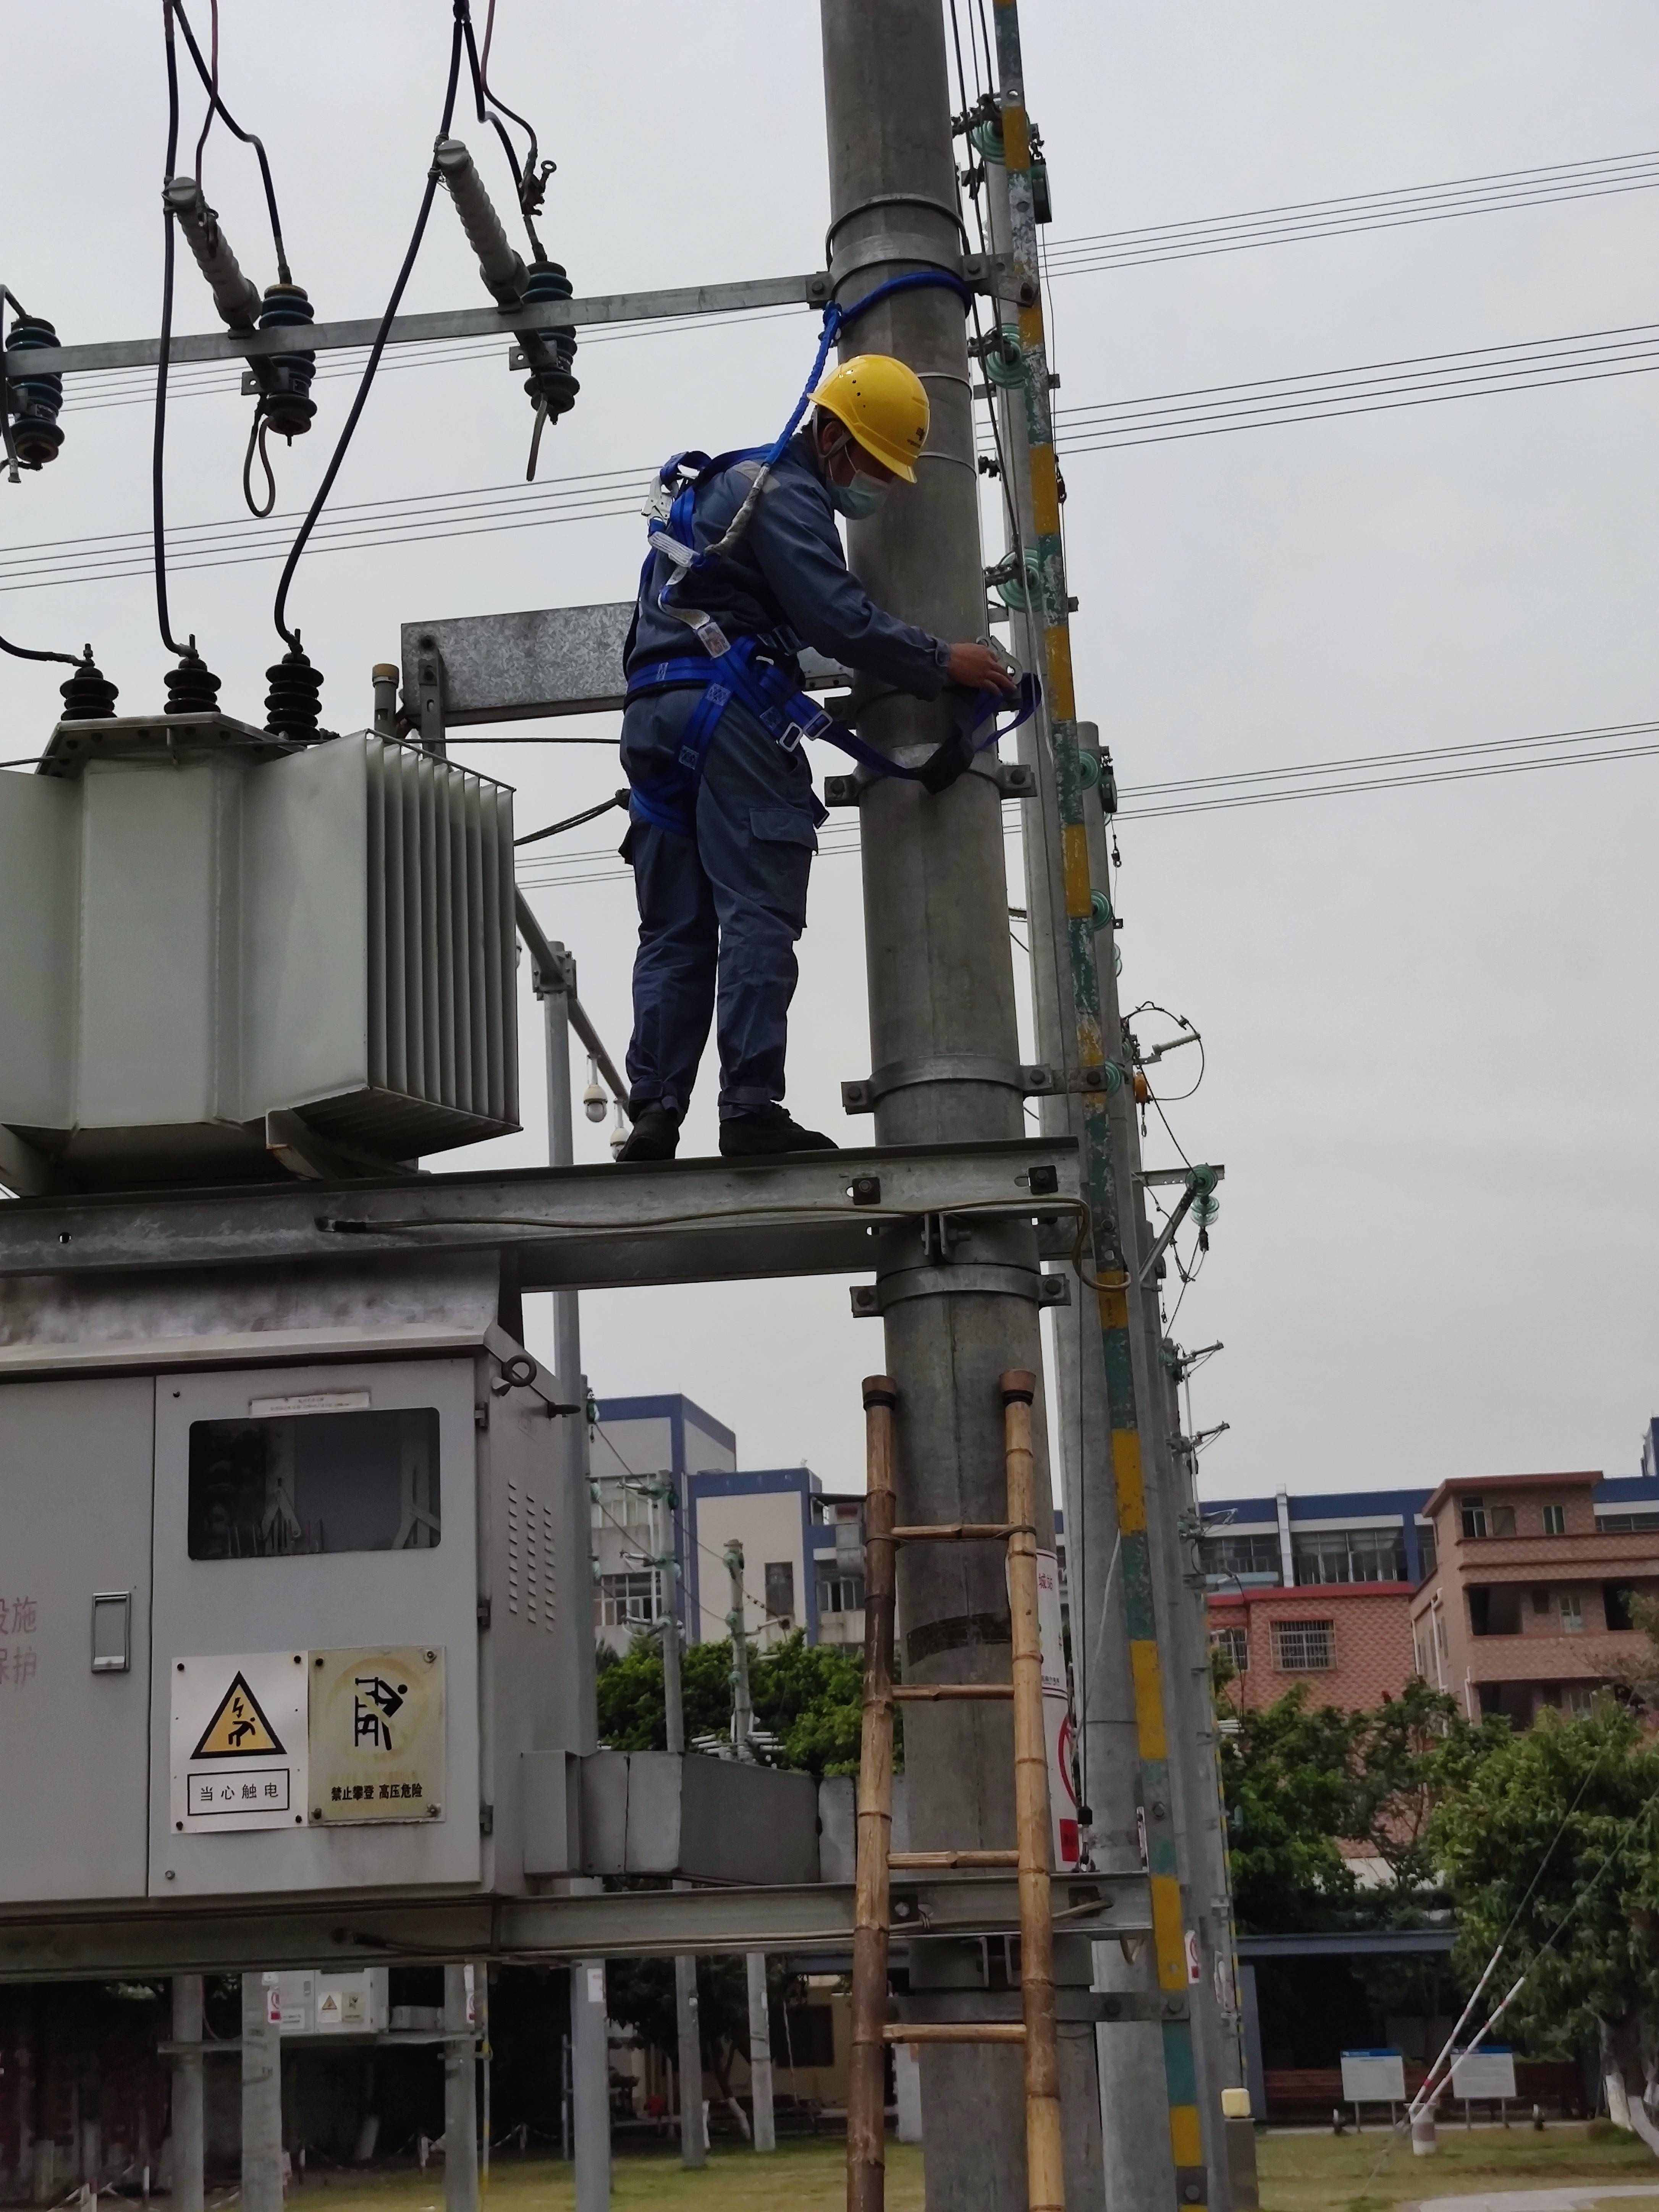downsuit: (620, 721, 824, 1103)
upsuit: (619, 448, 946, 698)
